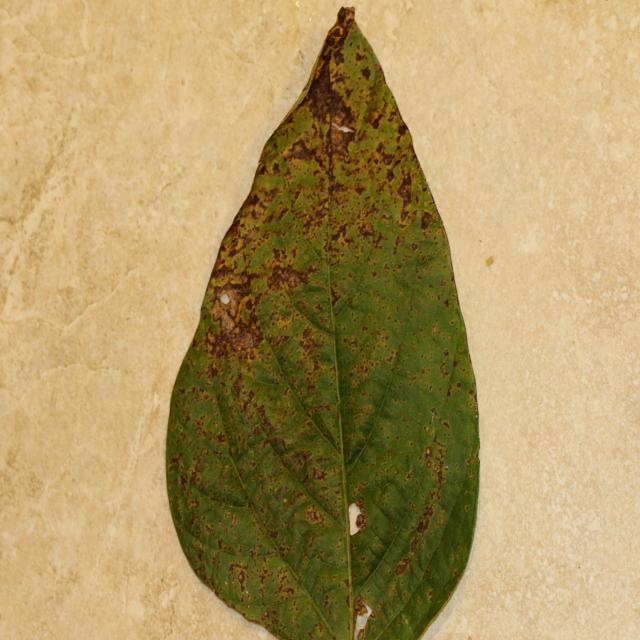Bacterial_Blight: (203, 265, 265, 354), (225, 548, 295, 615), (246, 167, 303, 238), (309, 60, 357, 138), (339, 335, 384, 414), (399, 508, 436, 569), (396, 174, 417, 225), (300, 326, 324, 356), (285, 450, 311, 475), (228, 561, 249, 590), (328, 219, 352, 244), (290, 138, 313, 160), (356, 222, 377, 243), (304, 503, 324, 524), (355, 598, 373, 619), (424, 445, 437, 468), (380, 148, 396, 166), (420, 210, 433, 229), (169, 453, 182, 470), (271, 436, 286, 450), (329, 288, 340, 306), (206, 329, 217, 346), (401, 172, 412, 188), (360, 66, 371, 81), (356, 512, 366, 528), (289, 274, 299, 288), (440, 362, 449, 376), (229, 514, 237, 528), (269, 528, 278, 540), (430, 407, 438, 418), (446, 385, 453, 397), (216, 538, 223, 550), (343, 577, 350, 589), (444, 298, 450, 308), (432, 325, 438, 334)
Soybean: (167, 9, 479, 640)
